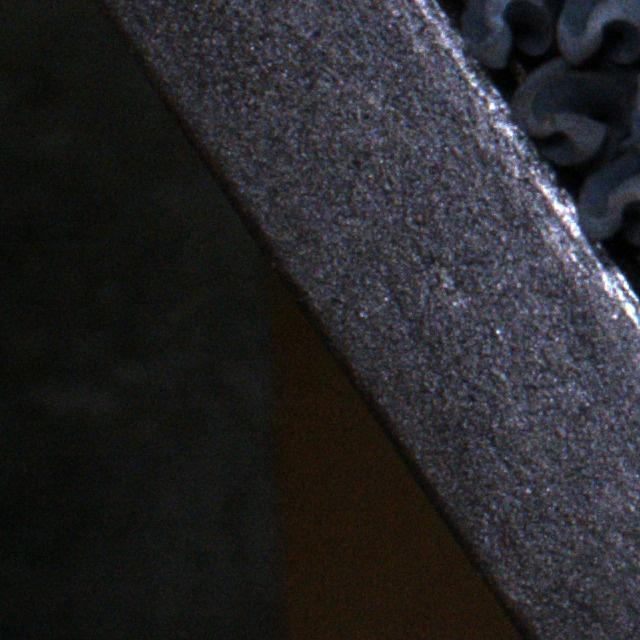tool_b: (508, 58, 634, 167), (461, 0, 561, 70), (579, 145, 640, 256), (557, 0, 640, 67)
